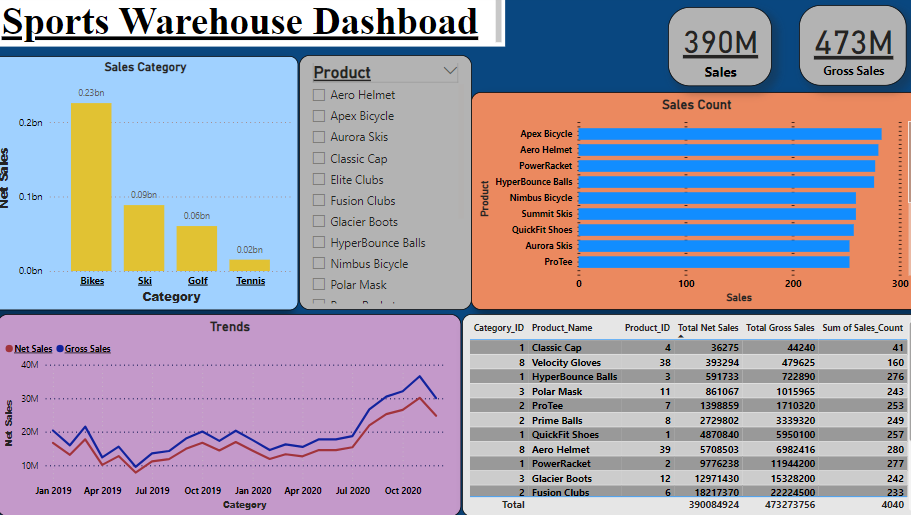

This screenshot's page, from the dashboard's own definition file:
{"tool":"powerbi","page":{"name":"Page 1","canvas":[1280,720],"ordinal":0},"visuals":[{"type":"textbox","box":[10.1,0,698.4,70.6],"z":0},{"type":"columnChart","title":"Sales Category","fields":{"Y":["Sum(Fact_Sales.Net_Sales)"],"Category":["Dim_Category.Category"]},"box":[0,83.5,423.4,349.9],"z":1000},{"type":"lineChart","title":"Trends","fields":{"Category":["Fact_Sales.Date.Variation.Date Hierarchy.Year","Fact_Sales.Date.Variation.Date Hierarchy.Quarter","Fact_Sales.Date.Variation.Date Hierarchy.Month"],"Y":["Sum(Fact_Sales.Net_Sales)","Sum(Fact_Sales.Gross_Sales)"]},"box":[8.6,439.2,639.4,279.4],"z":2000},{"type":"barChart","title":"Sales Count","fields":{"Category":["Dim_Product.Product_Name"],"Y":["Sum(Fact_Sales.Sales_Count)"]},"box":[661,133.9,619.2,299.5],"z":3000},{"type":"card","fields":{"Values":["Sum(Fact_Sales.Net_Sales)"]},"box":[931.7,15.8,142.6,109.4],"z":4000},{"type":"tableEx","fields":{"Values":["Dim_Category.Category_ID","Dim_Product.Product_Name","Dim_Product.Product_ID","Fact_Sales.Total Net Sales","Fact_Sales.Total Gross Sales","Sum(Fact_Sales.Sales_Count)"]},"box":[648,439.2,632.2,279.4],"z":5000},{"type":"card","title":"Gross Sales","fields":{"Values":["Sum(Fact_Sales.Gross_Sales)"]},"box":[1111.7,14.4,148.3,110.9],"z":6000},{"type":"slicer","fields":{"Values":["Dim_Product.Product_Name"]},"box":[423.4,82.1,237.6,351.4],"z":6001}]}

Visuals, with their boxes in screenshot pixels (x1, y1, x2, y2), scaled from the page's 1280x720 canvas onto the 911x515 screenshot:
textbox: region(7, 0, 504, 50)
"Sales Category" columnChart: region(0, 60, 301, 310)
"Trends" lineChart: region(6, 314, 461, 514)
"Sales Count" barChart: region(470, 96, 910, 310)
card - Sum(Fact_Sales.Net_Sales): region(663, 11, 765, 90)
tableEx - Dim_Category.Category_ID x Dim_Product.Product_Name: region(461, 314, 910, 514)
"Gross Sales" card: region(791, 10, 897, 90)
slicer - Dim_Product.Product_Name: region(301, 59, 470, 310)
